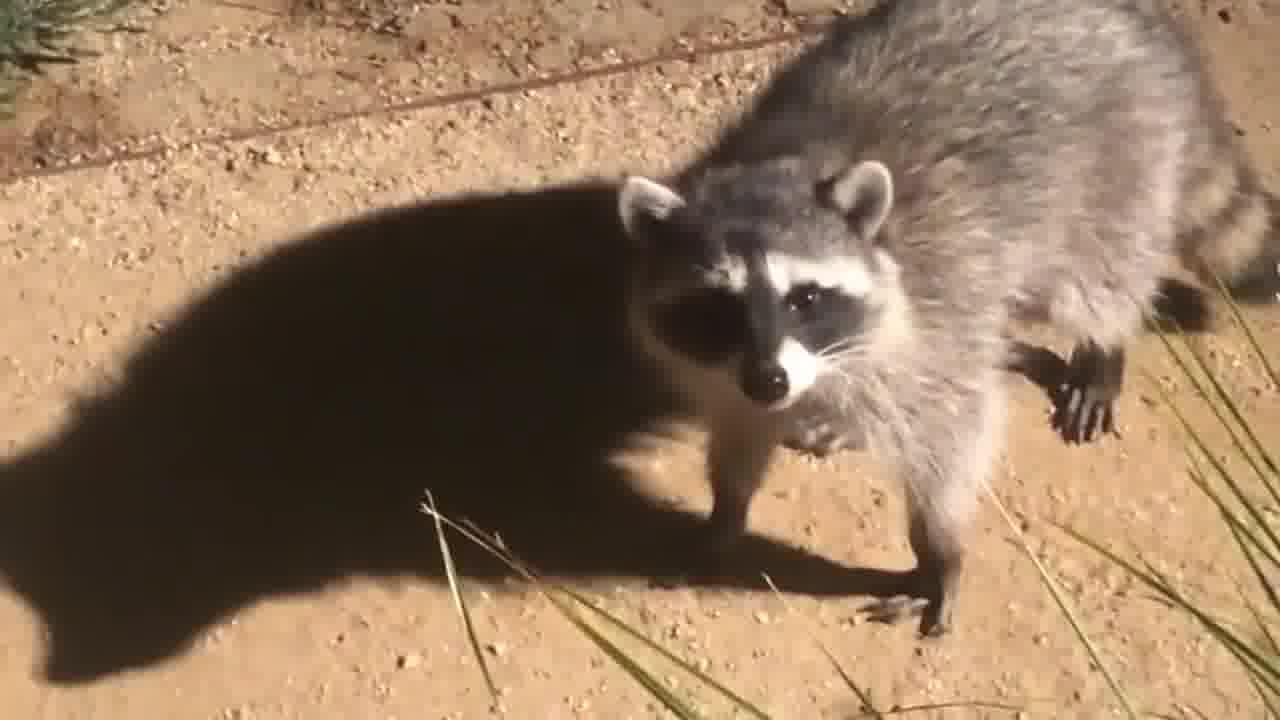raccoon: (619, 7, 1280, 635)
